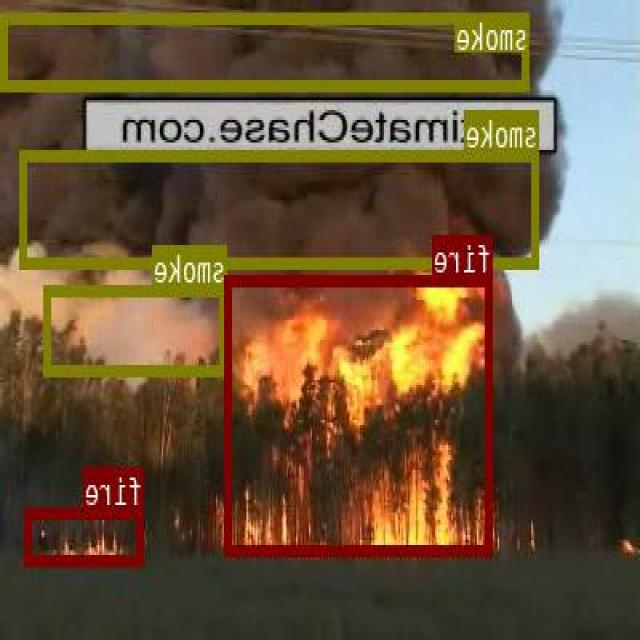fire: (226, 274, 494, 554), (26, 507, 145, 563)
smoke: (22, 148, 540, 267), (3, 10, 530, 88), (46, 284, 228, 374)
